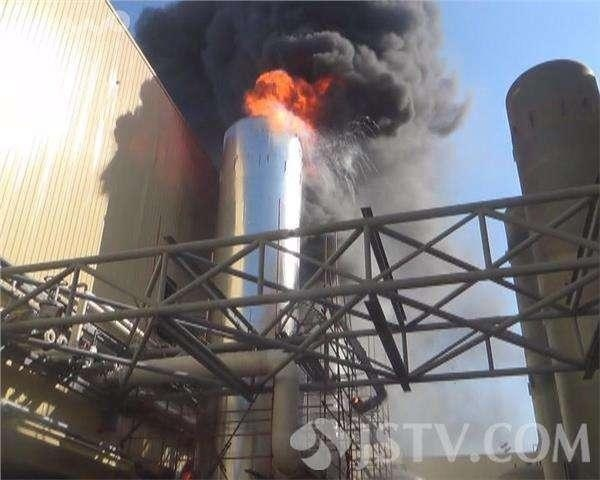fire: (243, 69, 329, 135)
